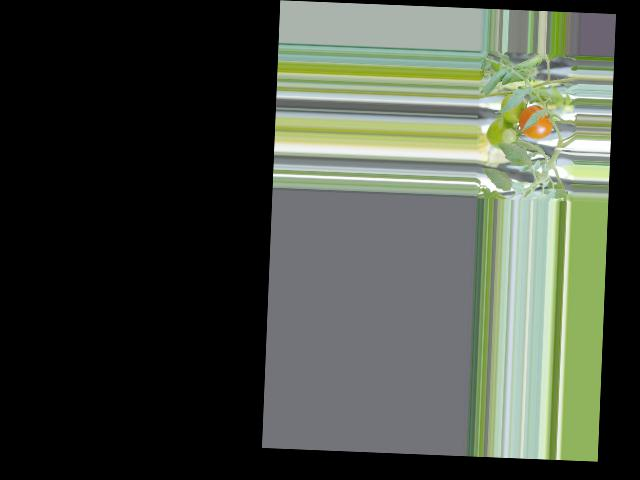tomato: (518, 104, 553, 140)
